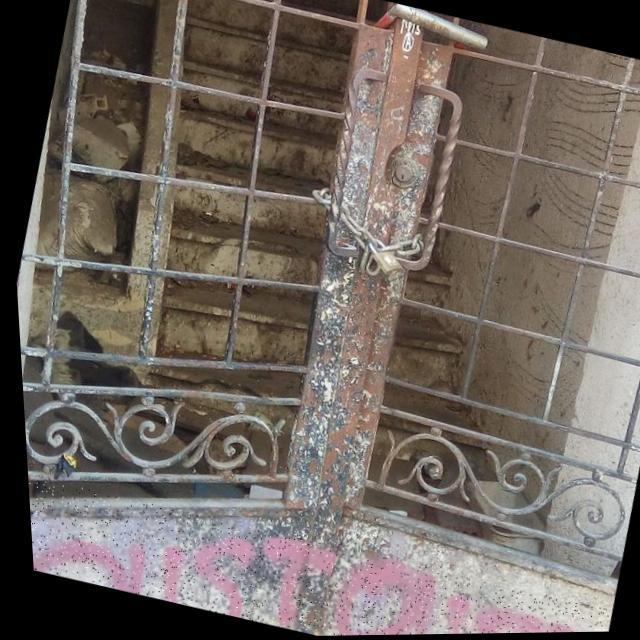-: (22, 468, 605, 640)
